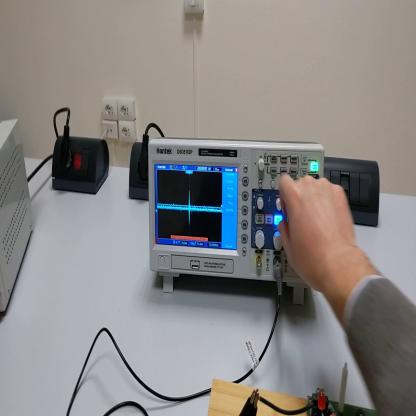hand: (278, 171, 358, 293)
low voltage board: (260, 358, 375, 416)
oscilloscope: (148, 140, 325, 307)
power supply: (2, 120, 37, 319)
socket: (52, 134, 112, 196), (129, 143, 150, 199)
working area: (210, 380, 309, 415)
